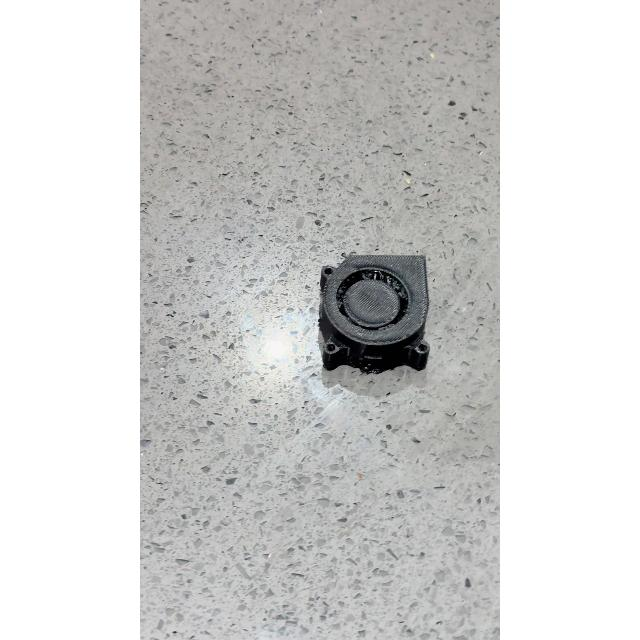Pieza_3: (310, 248, 448, 388)
